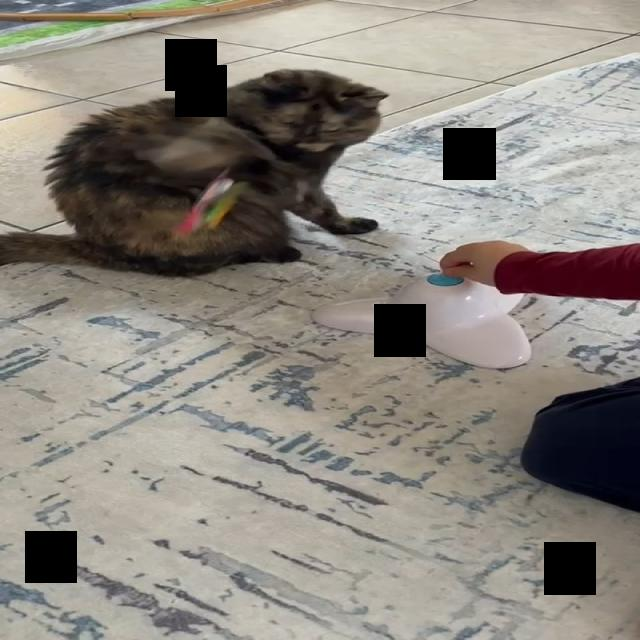authorized: (0, 67, 389, 277)
